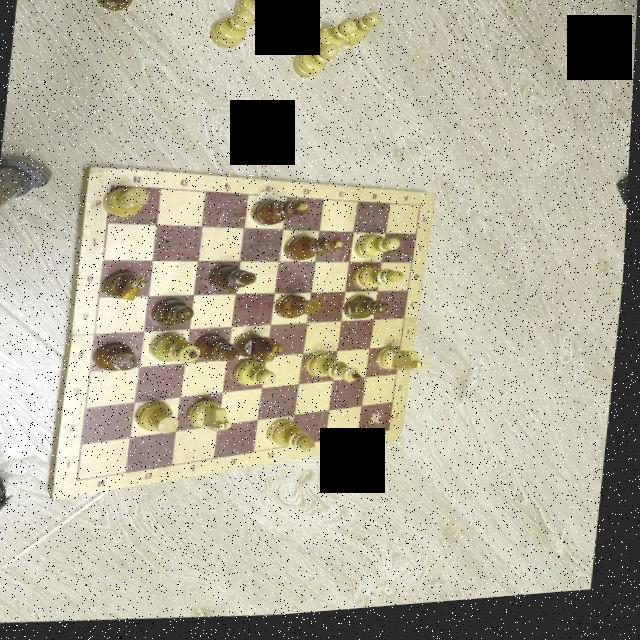chess-table-corners: (109, 183, 118, 191), (78, 478, 86, 486), (419, 210, 425, 216), (390, 435, 396, 440)
